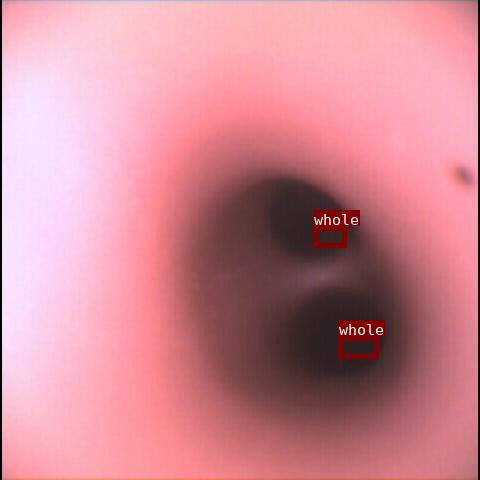whole: (338, 336, 378, 358), (313, 226, 346, 247)
